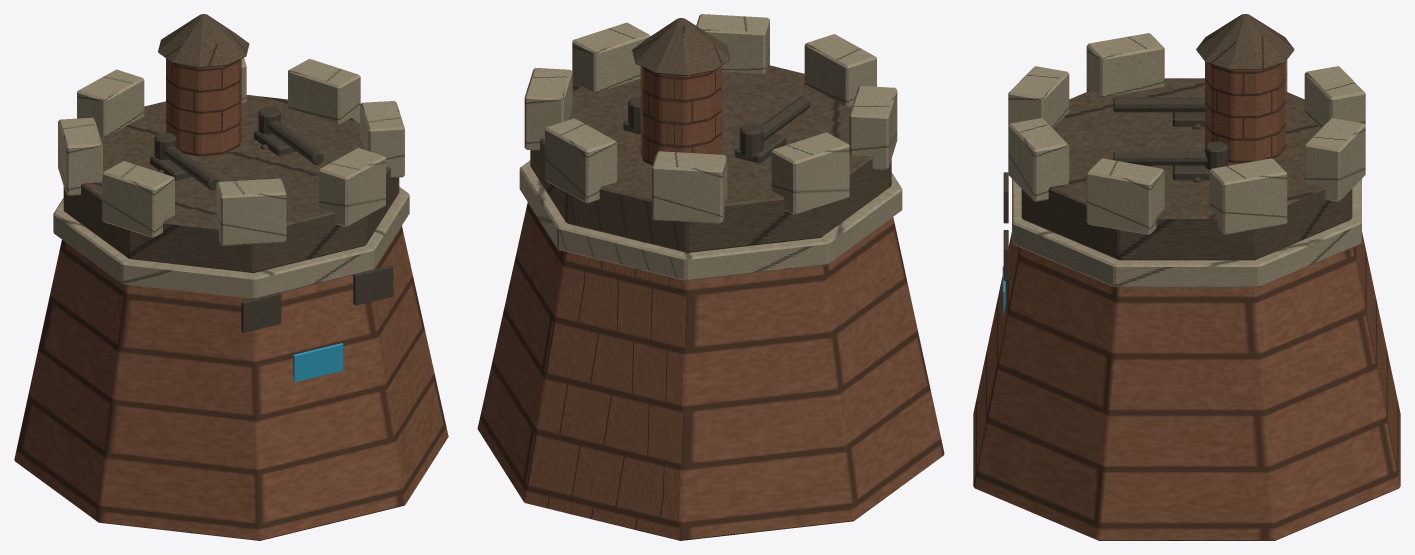
The model's file is edificio-tower-e3-lod0-LzQuOw_r.glb.
The picture shows the model from 3 angles, left to right: view 1: azimuth 30°, elevation 25°; view 2: azimuth 150°, elevation 25°; view 3: azimuth 270°, elevation 25°; orthographic projection. The views are drawn at different scales.
Parts seen in each view (by area): view 1: envolvente_torre, mecanismo_ataque_torre_e3, team_color; view 2: envolvente_torre, mecanismo_ataque_torre_e3; view 3: envolvente_torre, mecanismo_ataque_torre_e3.
Boxes of the visible parts, x1=… form: envolvente_torre: x1=14, y1=14, x2=448, y2=540; mecanismo_ataque_torre_e3: x1=150, y1=107, x2=323, y2=190; team_color: x1=293, y1=343, x2=343, y2=382; envolvente_torre: x1=477, y1=14, x2=944, y2=540; mecanismo_ataque_torre_e3: x1=623, y1=96, x2=810, y2=163; envolvente_torre: x1=973, y1=14, x2=1400, y2=540; mecanismo_ataque_torre_e3: x1=1113, y1=97, x2=1228, y2=182.
Size of the model in its own units: 43.92 by 49.5 by 43.92.
2 materials, 1 textured.
